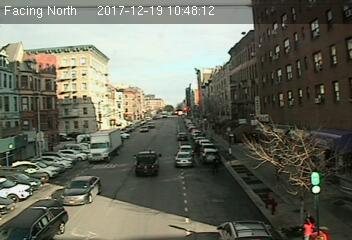car: (60, 175, 102, 205), (173, 150, 193, 168), (202, 148, 219, 162), (176, 132, 189, 141)
truck: (87, 128, 122, 163), (134, 149, 163, 176)
